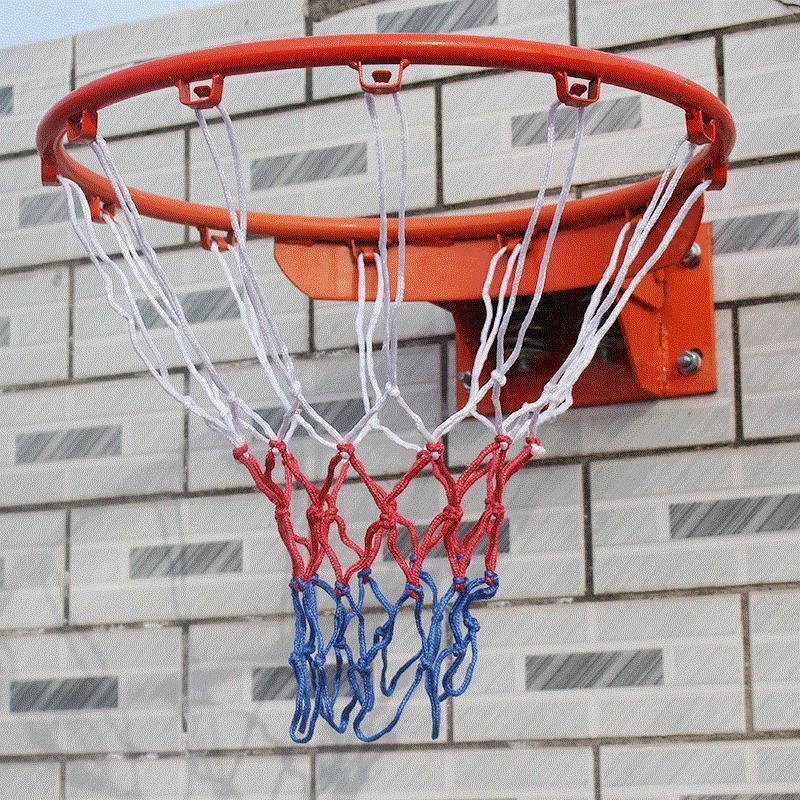rim: (35, 33, 740, 743)
